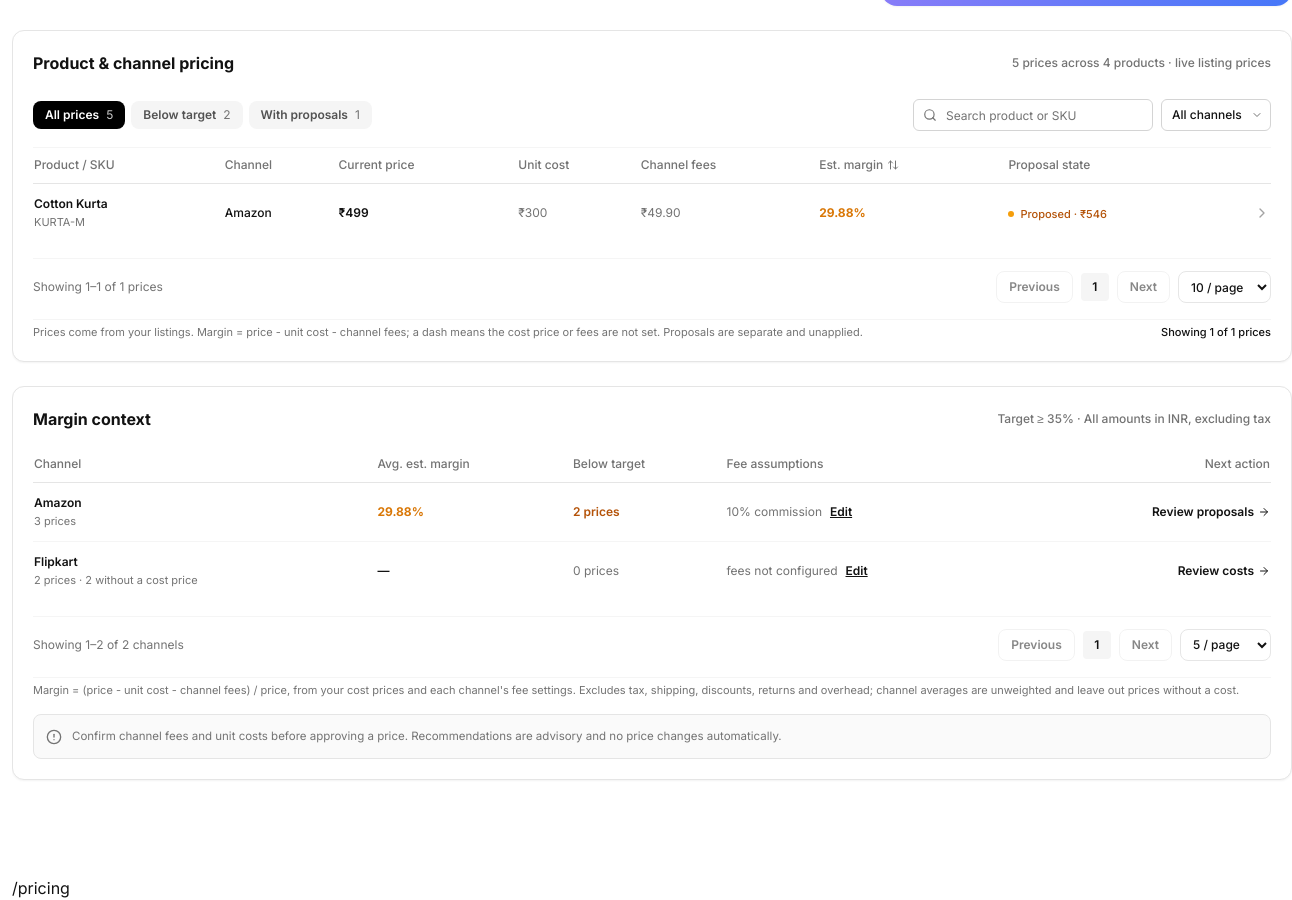
Test: Pricing overview tab (real data) › sends a channel without costs to the first product missing a cost price
This screenshot has width=1292, height=900.
(page scrolled)
Click the button "Review costs": (1224, 570) [1178,562,1270,578]
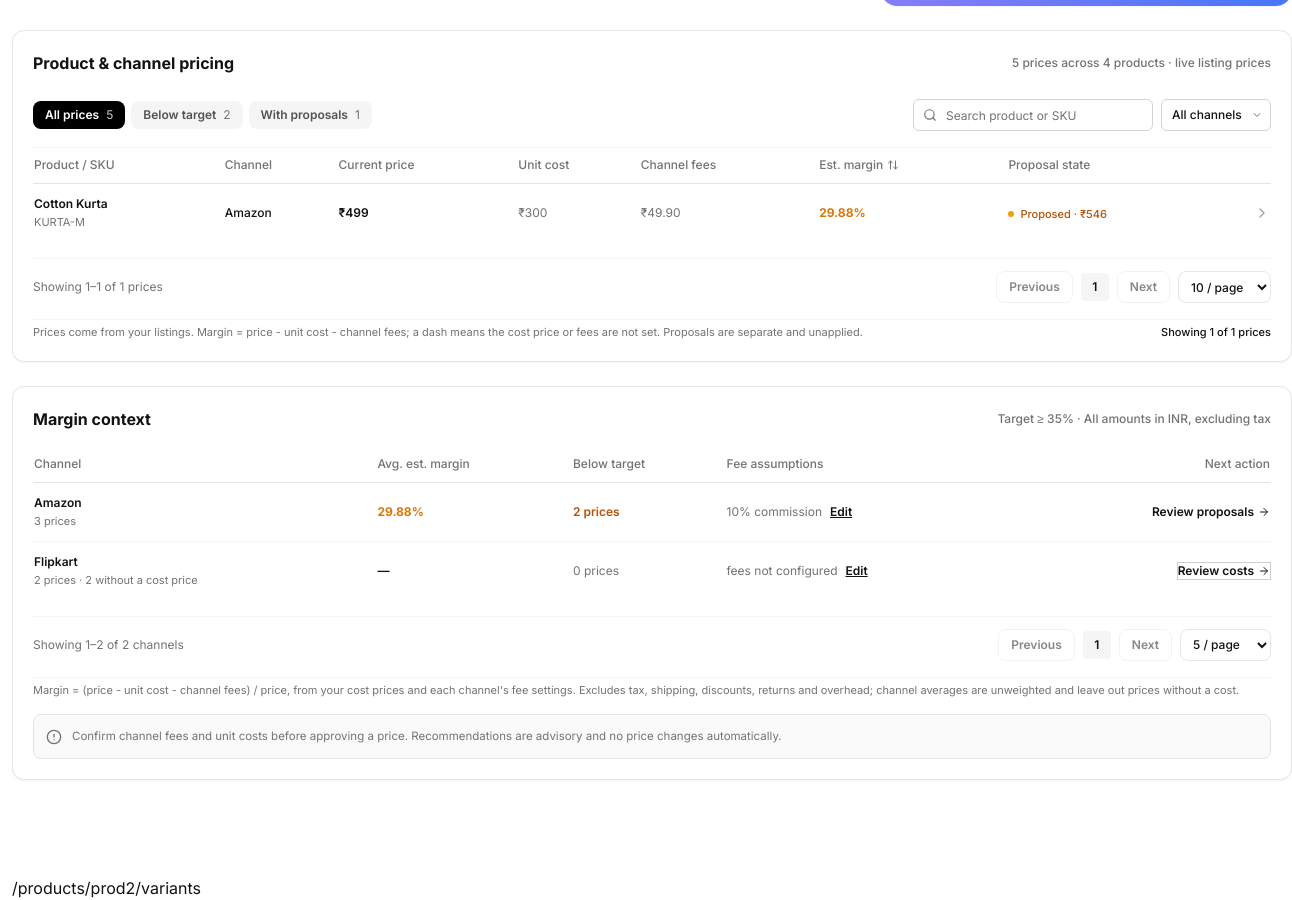
expect the text with test id "loc" reads "/products/prod2/variants": met, box [12,878,201,898]
